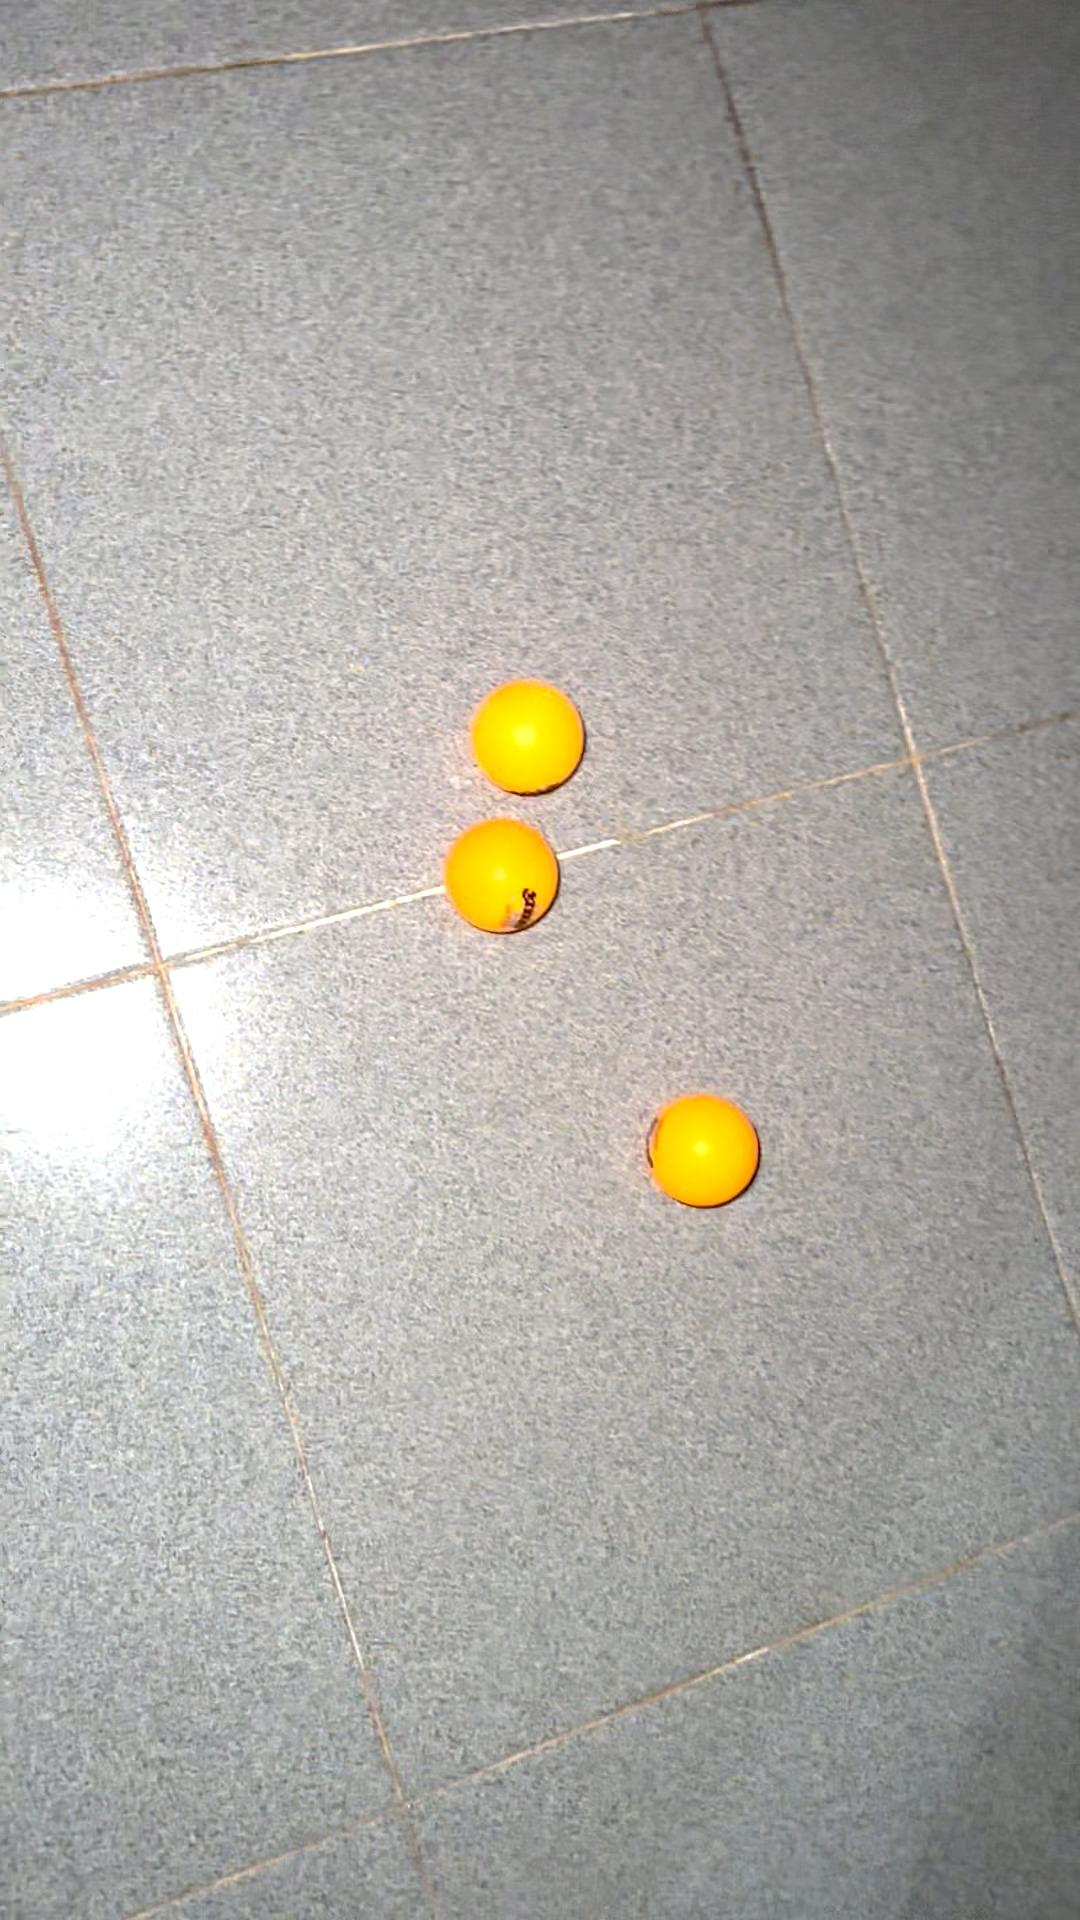oball: (434, 800, 572, 951), (458, 674, 588, 798), (645, 1088, 769, 1204)
